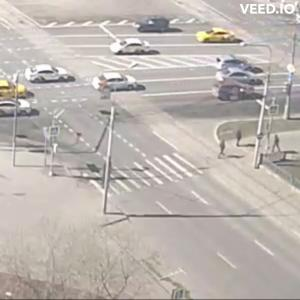car: (96, 73, 148, 94), (27, 65, 77, 85), (212, 54, 260, 72), (111, 40, 161, 57), (216, 84, 262, 102), (217, 72, 266, 88), (195, 28, 240, 45), (2, 99, 38, 119), (137, 19, 177, 36)
